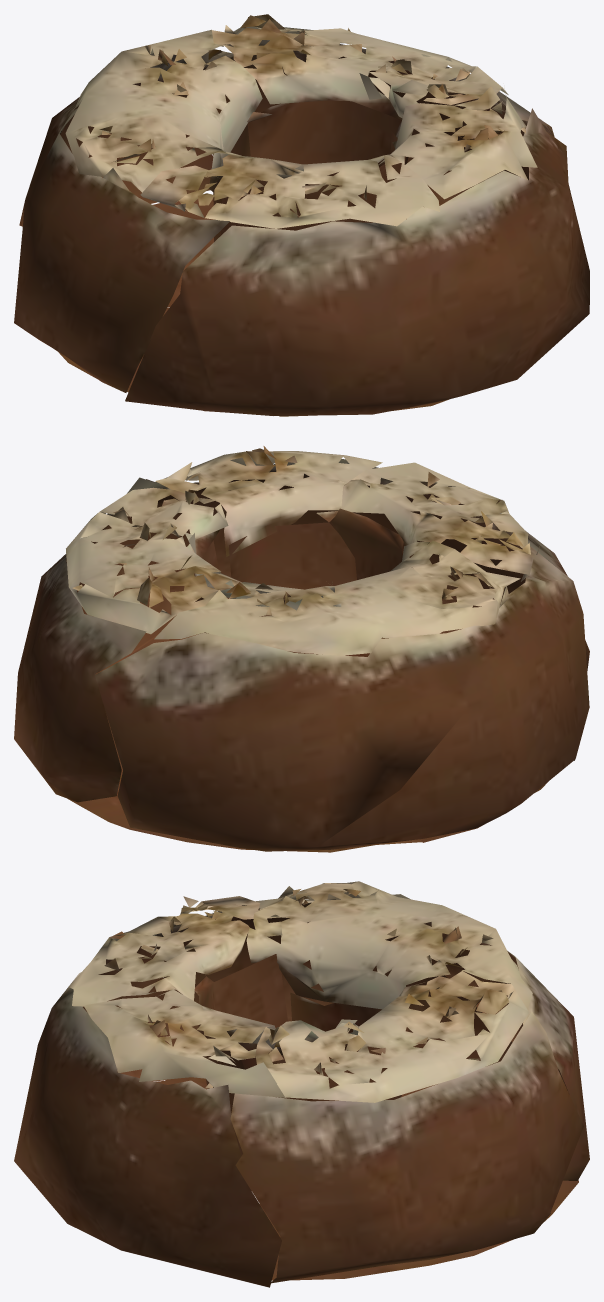
The model's file is carrot_cake.glb.
3 views of the same model, one above another, from view 1: azimuth 30°, elevation 25°; view 2: azimuth 150°, elevation 25°; view 3: azimuth 270°, elevation 25° (orthographic). The views are drawn at different scales.
Parts seen in each view (by area): view 1: carrot_cake; view 2: carrot_cake; view 3: carrot_cake.
Boxes of the visible parts, x1,y1,x2,y2 form: carrot_cake: [14, 14, 589, 416]; carrot_cake: [14, 446, 589, 852]; carrot_cake: [14, 881, 589, 1287].
Size of the model in its own units: 0.2239 by 0.0969 by 0.2269.
1 material, 1 textured.
